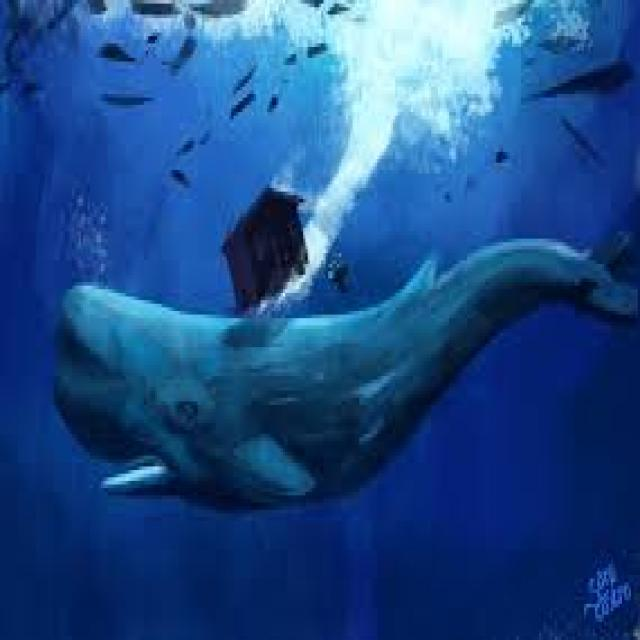blue_whale: (45, 232, 620, 542)
